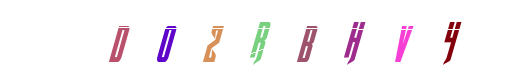0: (185, 0, 265, 80)
4: (411, 0, 491, 80)
B: (229, 0, 309, 80)
D: (126, 0, 206, 80)
H: (240, 0, 320, 80)
R: (223, 0, 303, 80)
V: (359, 0, 439, 80)
Z: (220, 0, 300, 80)
